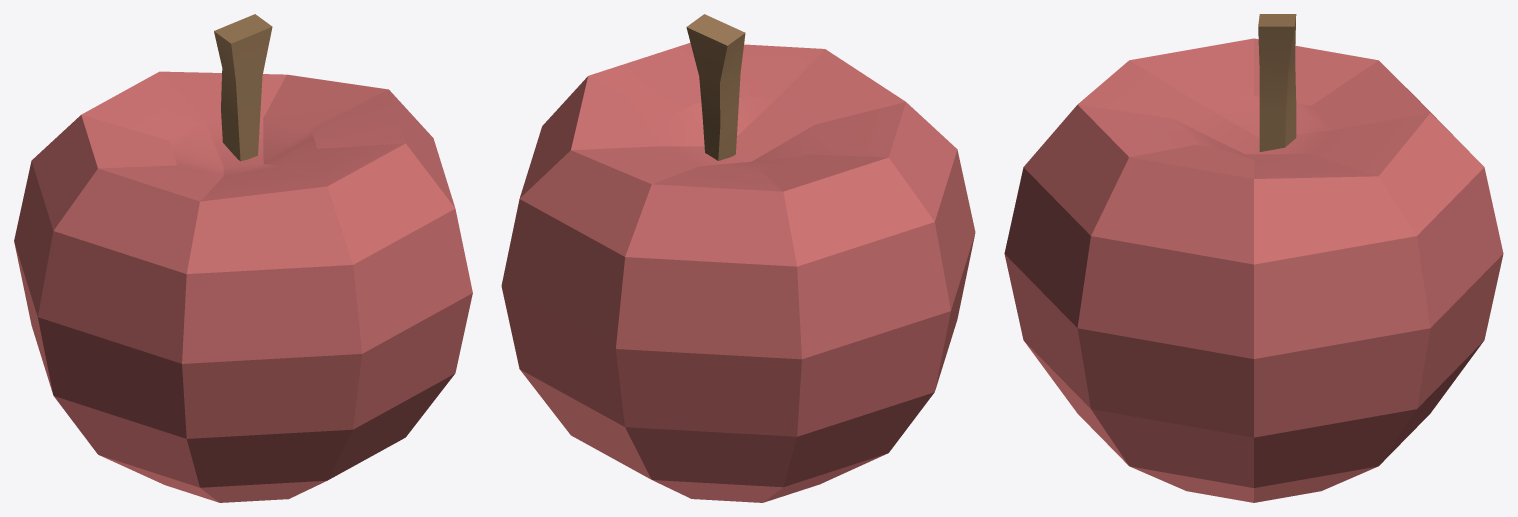
Rendered from giantApple01.fbx.
The picture shows the model from 3 angles, left to right: view 1: azimuth 30°, elevation 25°; view 2: azimuth 150°, elevation 25°; view 3: azimuth 270°, elevation 25°; orthographic projection. The views are drawn at different scales.
Parts seen in each view (by area): view 1: pCube2; view 2: pCube2; view 3: pCube2.
Part boxes in pixels (x1,y1,x2,y2): pCube2: (14, 14, 472, 502); pCube2: (501, 14, 975, 502); pCube2: (1004, 14, 1503, 502).
Bounding box in the file's own units: 6.19 × 6.42 × 6.19.
